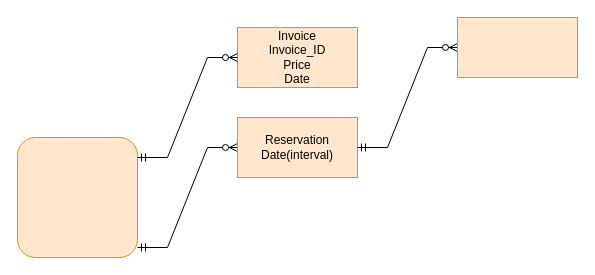
Some shapes in this 595 by 275 pixel diagram are drawn without their labels. Each missing label, with the box of its shape:
Captures User_ID Date(interval): (456, 16, 578, 78)
User PK: ID Name Surname Email Invoice_ID Order_ID: (16, 136, 138, 258)
